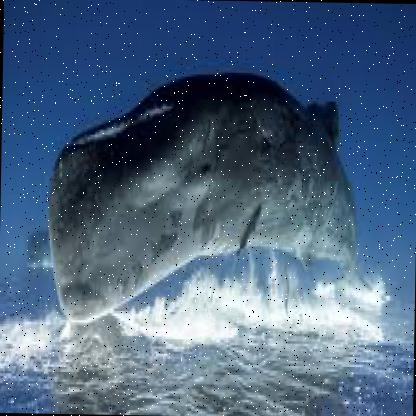sperm_whale: (21, 74, 380, 340)
